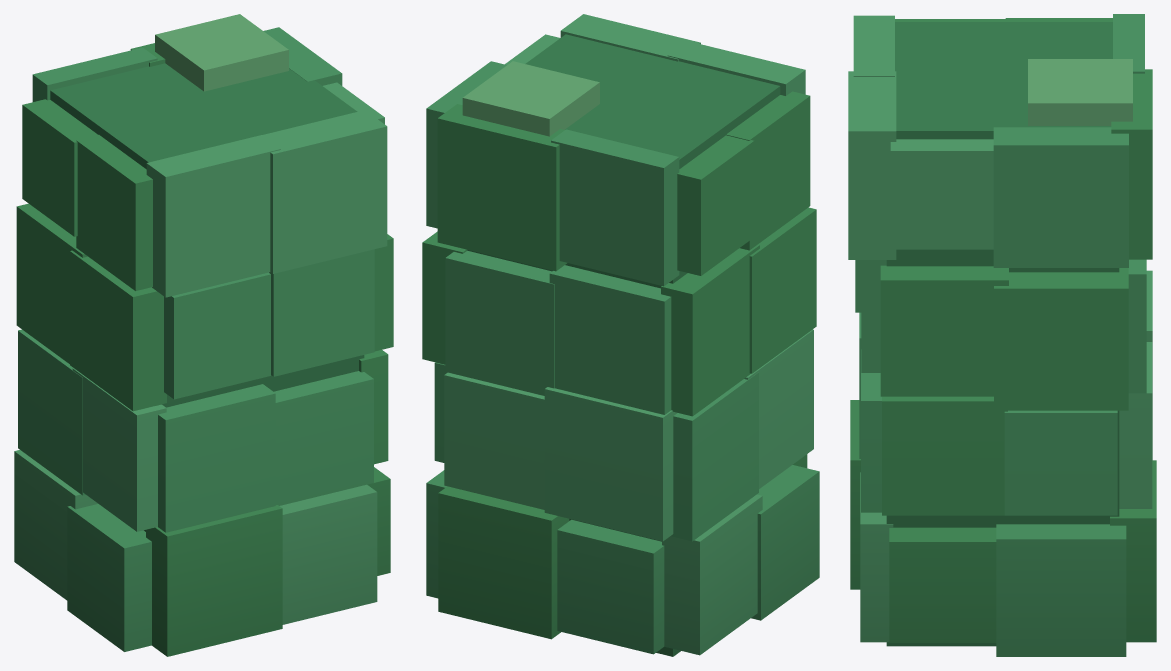
File: hedge-post-h2.2.glb
3 renders of one model, left to right at view 1: azimuth 30°, elevation 25°; view 2: azimuth 150°, elevation 25°; view 3: azimuth 270°, elevation 25°, orthographic. The views are drawn at different scales.
Parts seen in each view (by area): view 1: hedge-post-h2.2_body; view 2: hedge-post-h2.2_body; view 3: hedge-post-h2.2_body.
Part boxes in pixels (box(x1,y1,x2,y2)): hedge-post-h2.2_body: box(14, 14, 393, 656); hedge-post-h2.2_body: box(422, 14, 819, 656); hedge-post-h2.2_body: box(848, 14, 1156, 656).
Bounding box in the file's own units: 1.31 × 2.3 × 1.19.
